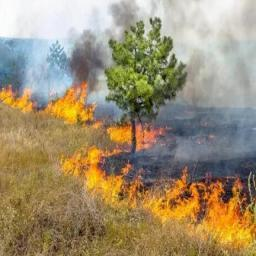Low smoke: (72, 1, 256, 159)
Medium fire: (2, 85, 256, 246)
